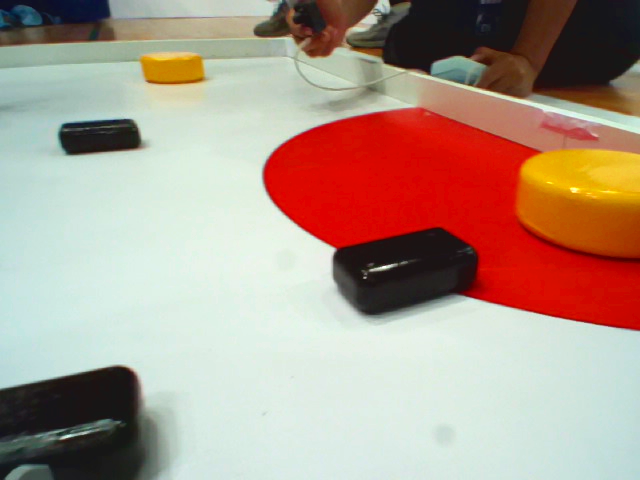black: (1, 366, 149, 474), (323, 228, 480, 319), (54, 119, 143, 152)
yellow: (517, 147, 640, 254), (139, 52, 210, 85)
